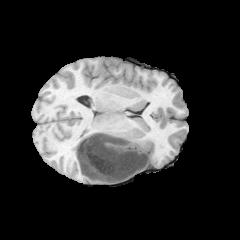glioma: (70, 129, 149, 183)
